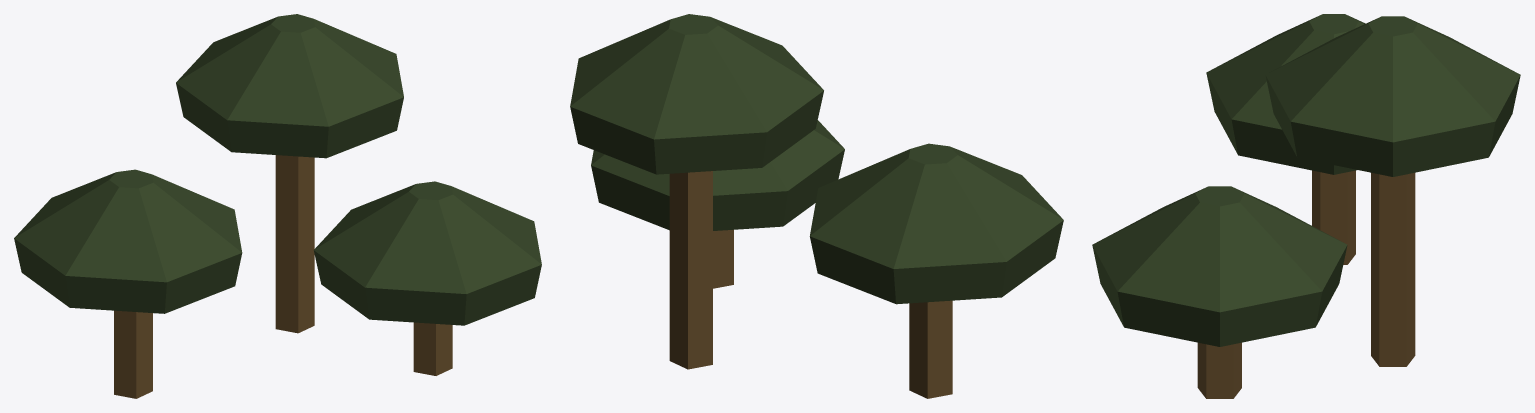
The model's file is fungus.glb.
3 views of the same model, side by side, from view 1: azimuth 30°, elevation 25°; view 2: azimuth 150°, elevation 25°; view 3: azimuth 270°, elevation 25° (orthographic). The views are drawn at different scales.
Parts seen in each view (by area): view 1: fungus; view 2: fungus; view 3: fungus.
Part boxes in pixels (bbox=[...]): fungus: bbox=[14, 14, 541, 398]; fungus: bbox=[570, 14, 1063, 398]; fungus: bbox=[1092, 14, 1520, 398].
Size of the model in its own units: 1.34 by 0.87 by 1.01.
